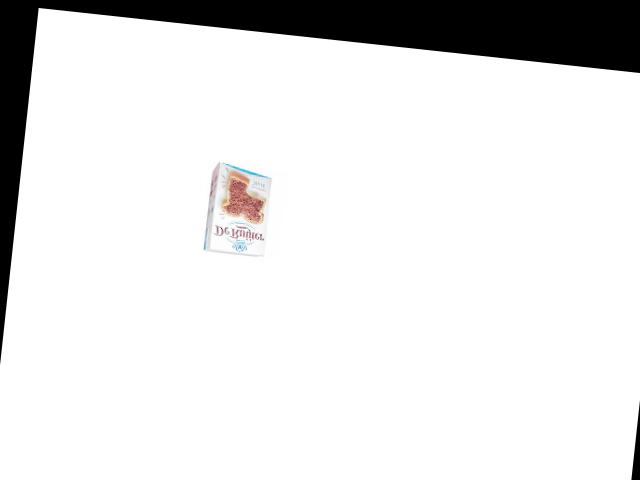chocolate: (194, 162, 281, 263)
